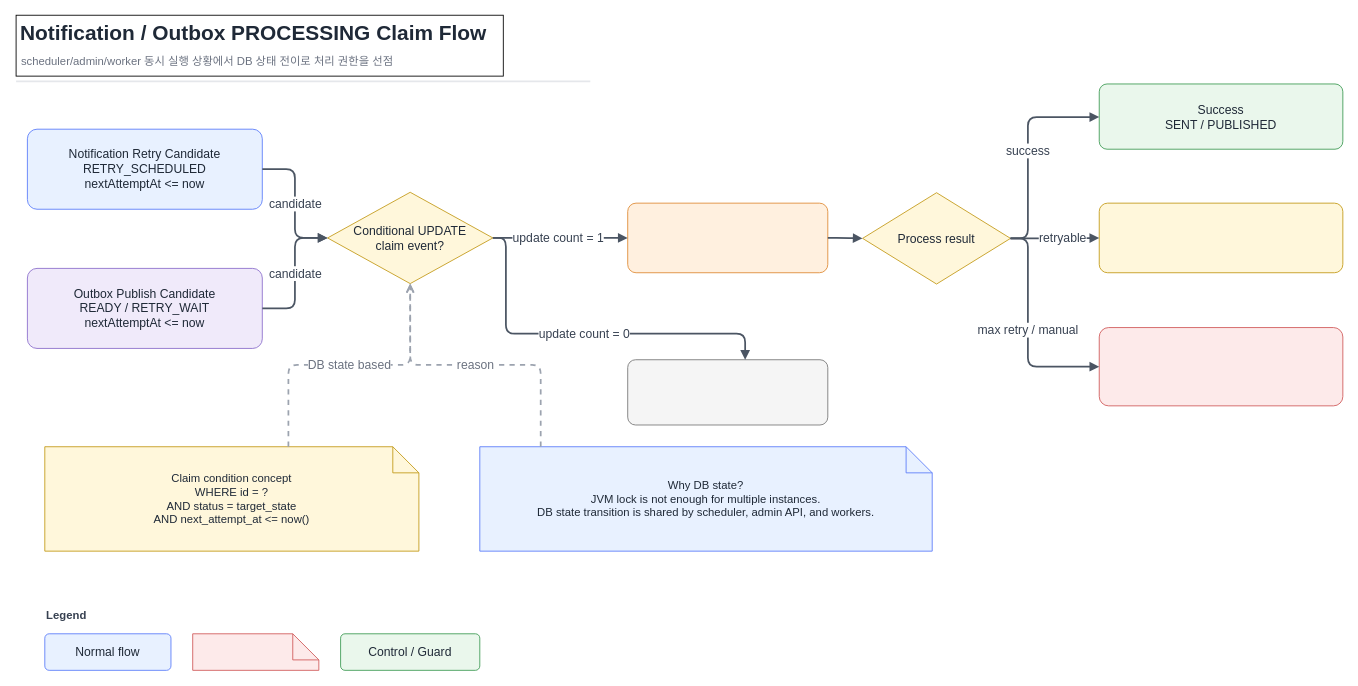
Some shapes in this 1358 by 686 pixel diagram are drawn without their labels. The shapes that lost their labels are listed below. From the top down, each one's centre as x and y in pixels, then its label:
(727,237): PROCESSING worker owns this event
(1220,237): Retryable failure RETRY_SCHEDULED / RETRY_WAIT
(1220,366): Terminal failure MANUAL_INTERVENTION_REQUIRED / DEAD_LETTER
(727,392): Skipped update count = 0
(255,651): Risk point
